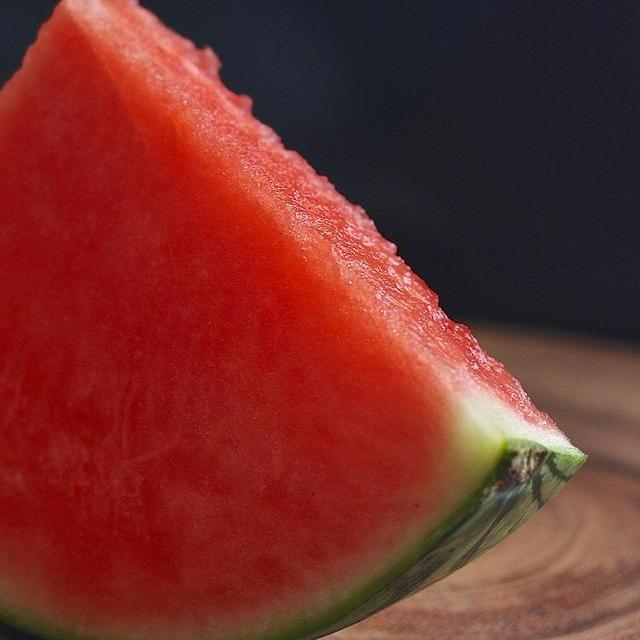watermelon: (0, 0, 580, 640)
